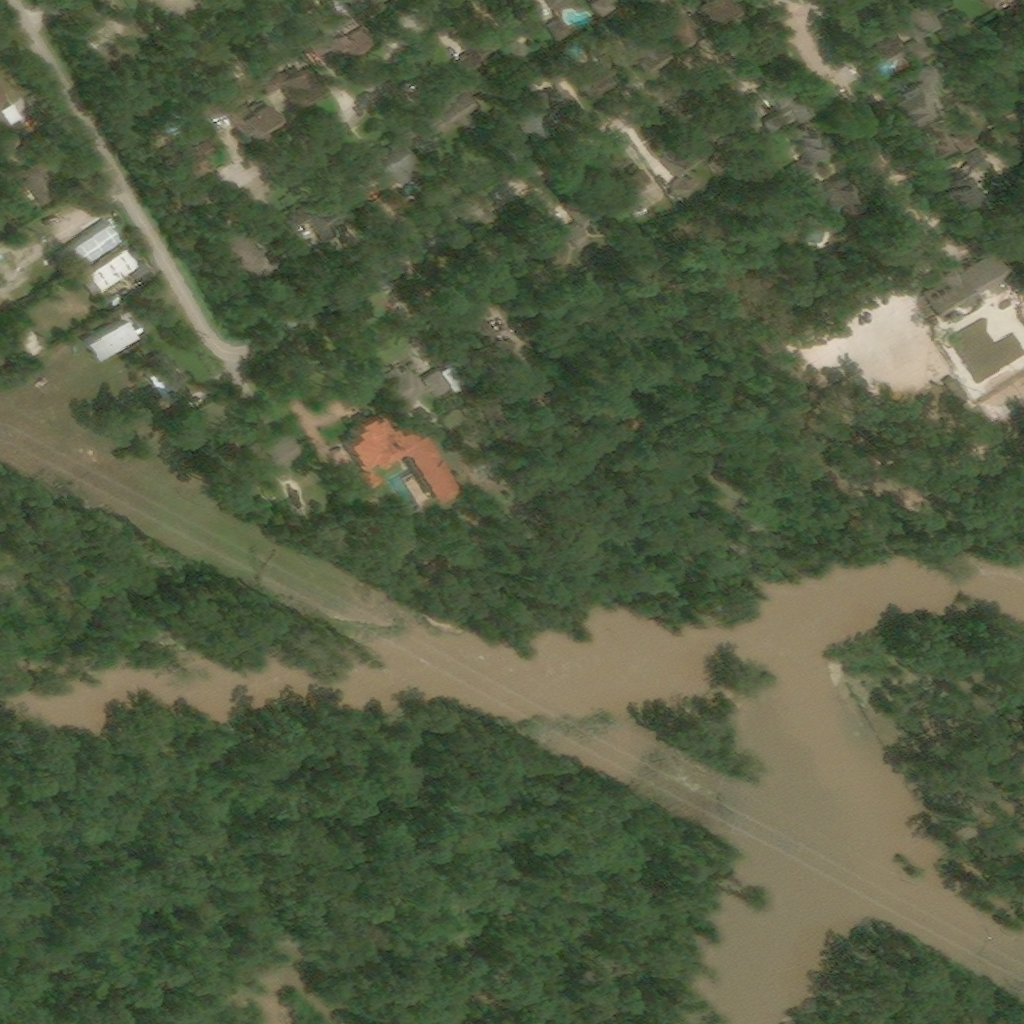minor_damage: (346, 413, 449, 500), (380, 364, 464, 421), (64, 223, 126, 276), (84, 248, 143, 297), (151, 351, 200, 408), (88, 320, 141, 362), (251, 433, 303, 475), (25, 162, 70, 209), (460, 313, 502, 354), (617, 413, 648, 445), (361, 503, 385, 527), (134, 261, 155, 280)
no_damage: (456, 1, 545, 79), (925, 252, 1010, 321), (402, 81, 478, 143), (886, 62, 949, 131), (353, 140, 422, 191), (164, 131, 222, 186), (790, 119, 836, 186), (944, 146, 989, 213), (859, 23, 910, 82), (762, 77, 810, 138), (260, 66, 331, 107), (598, 165, 655, 212), (898, 0, 941, 62), (219, 228, 270, 275), (906, 122, 960, 166), (304, 29, 369, 62), (288, 195, 342, 234), (626, 31, 672, 71), (492, 101, 538, 135), (576, 61, 617, 98), (240, 100, 280, 137), (664, 143, 706, 176), (703, 0, 746, 30), (14, 324, 47, 356), (0, 78, 17, 138), (205, 95, 236, 120), (805, 176, 832, 202), (532, 213, 556, 242), (0, 158, 24, 185), (3, 135, 27, 158), (8, 105, 28, 128), (596, 0, 619, 18), (550, 0, 577, 11), (675, 0, 694, 7)
